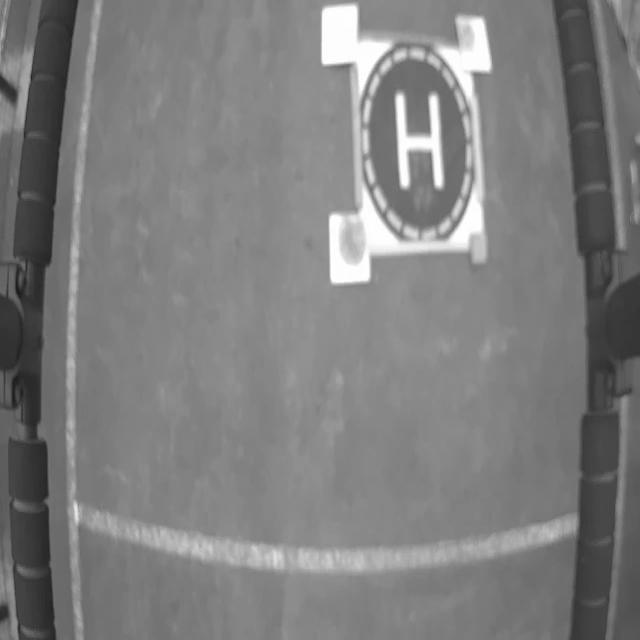Helipad: (394, 90, 446, 191)
